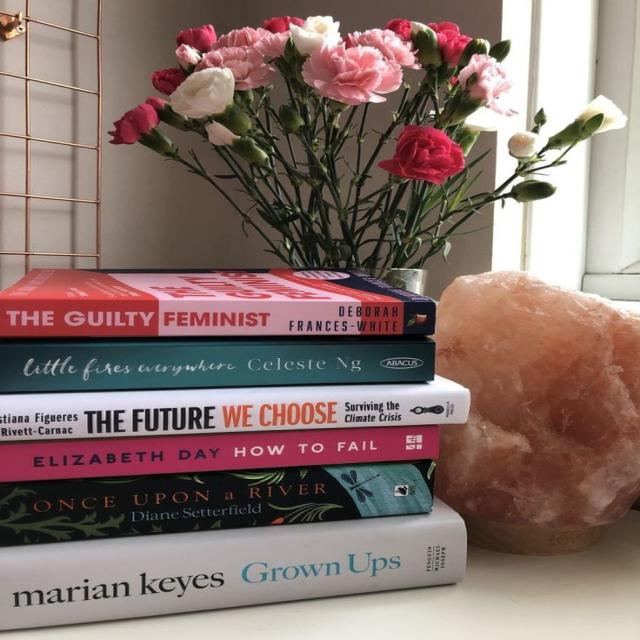book: (0, 500, 466, 630), (0, 460, 434, 547), (0, 376, 469, 441), (0, 426, 438, 481), (0, 338, 434, 393), (6, 299, 427, 333)
flowers: (109, 17, 625, 273)
